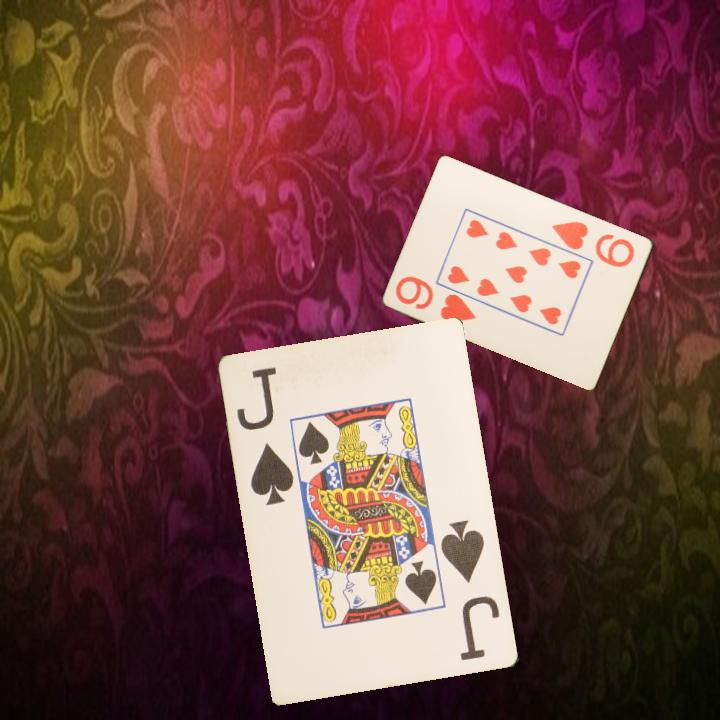9h: (548, 217, 638, 270), (392, 272, 479, 325)
Js: (437, 517, 504, 664), (233, 363, 298, 509)
